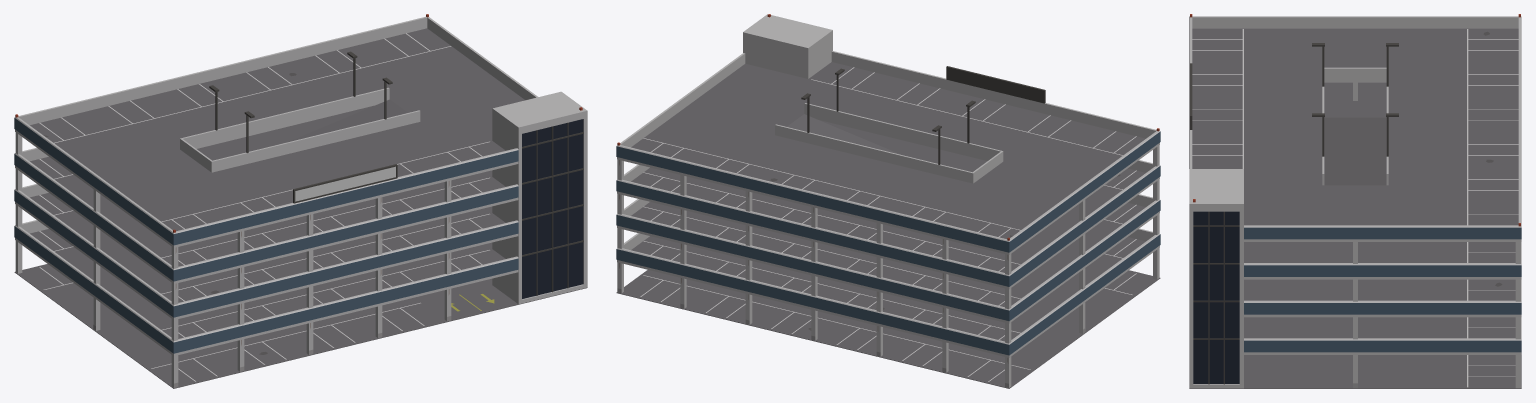
Rendered from multi-storey-car-park-021465.glb.
3 renders of one model, left to right at view 1: azimuth 30°, elevation 25°; view 2: azimuth 150°, elevation 25°; view 3: azimuth 270°, elevation 25°, orthographic. The views are drawn at different scales.
Visible parts, largest first — view 1: car-park-structure; view 2: car-park-structure; view 3: car-park-structure.
Part boxes in pixels (bbox=[...]): car-park-structure: bbox=[14, 14, 587, 388]; car-park-structure: bbox=[616, 14, 1160, 388]; car-park-structure: bbox=[1189, 14, 1521, 388].
Size of the model in its own units: 48 by 21.73 by 32.
